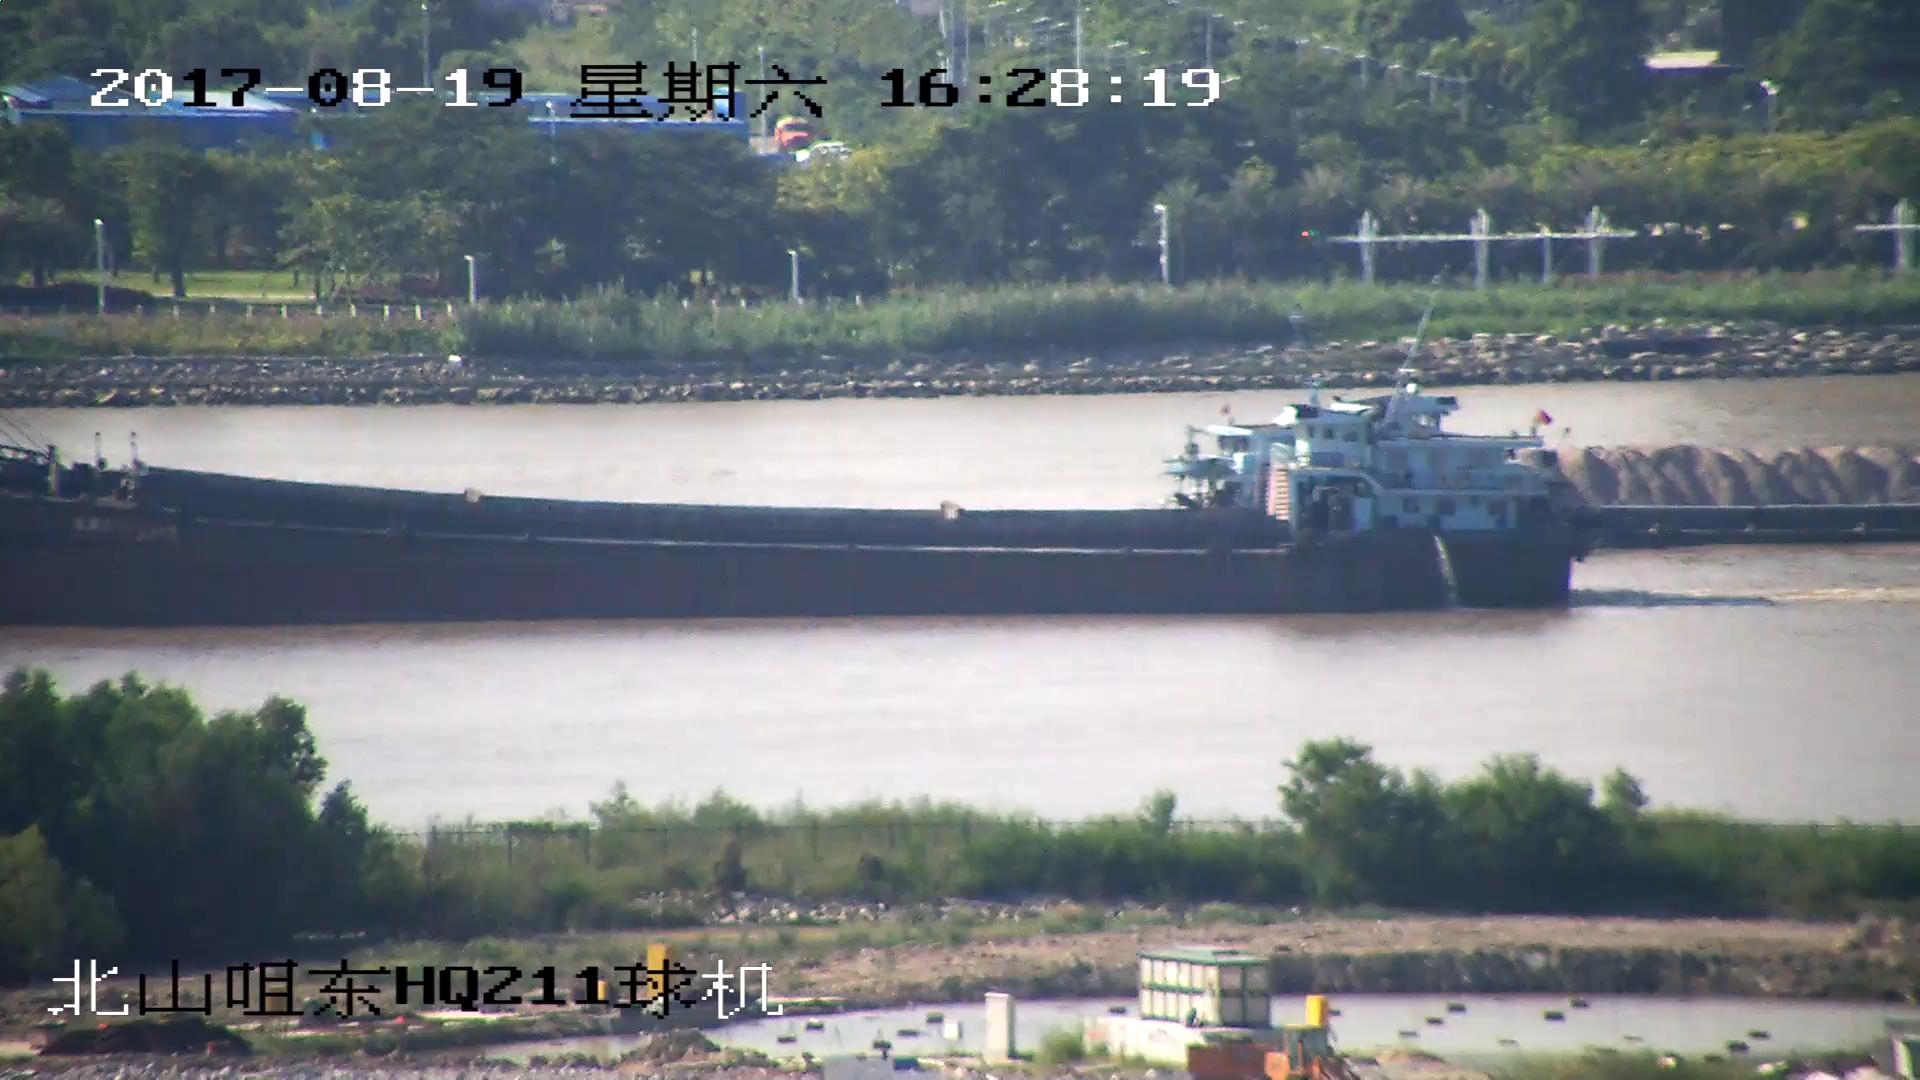bulk cargo carrier: (1, 396, 1591, 620)
ore carrier: (1168, 401, 1920, 552)
